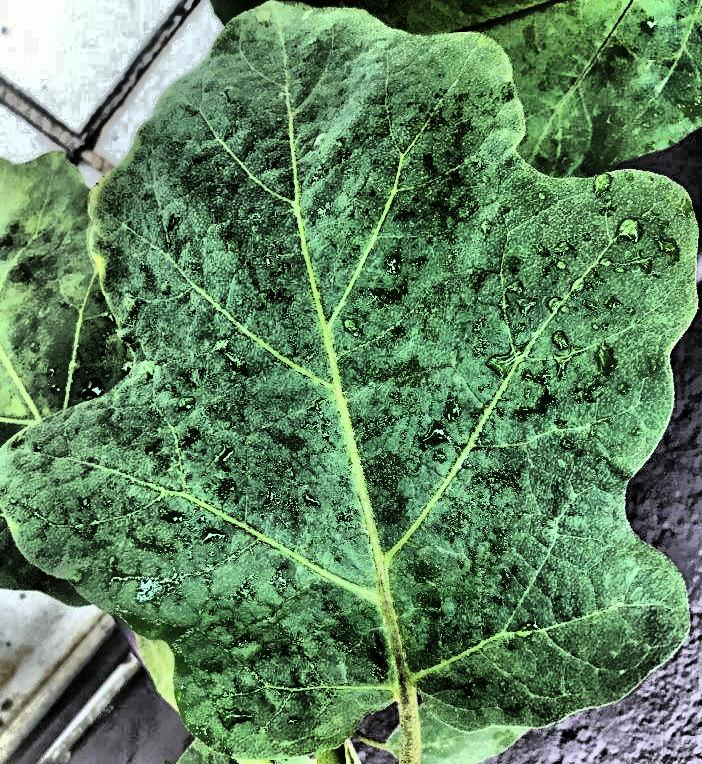HEALTHY: (1, 0, 702, 764)
